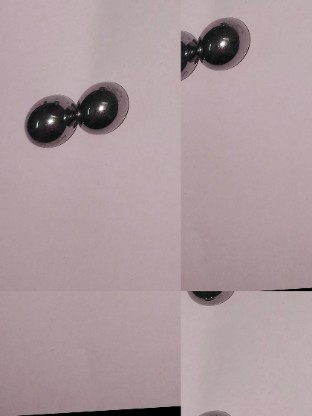ironball: (197, 11, 259, 74), (17, 88, 78, 152), (77, 75, 130, 138), (180, 26, 204, 89), (185, 288, 239, 308)
